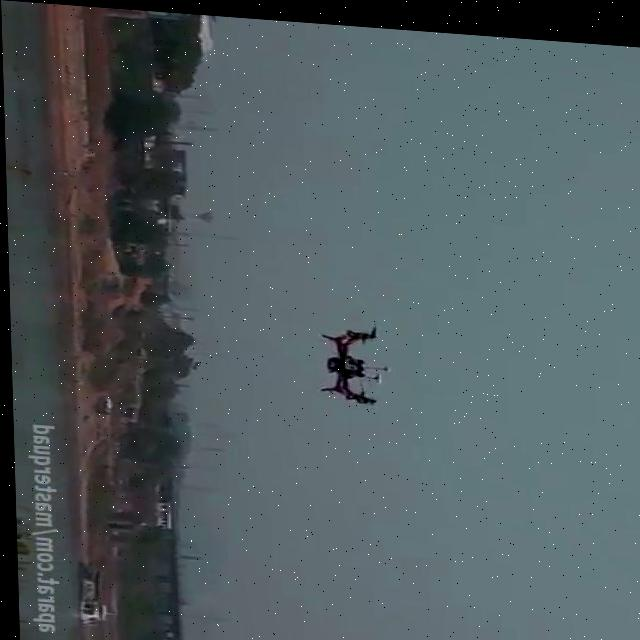drone: (312, 311, 396, 409)
